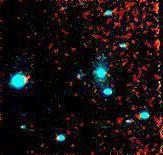star: (9, 63, 39, 93)
